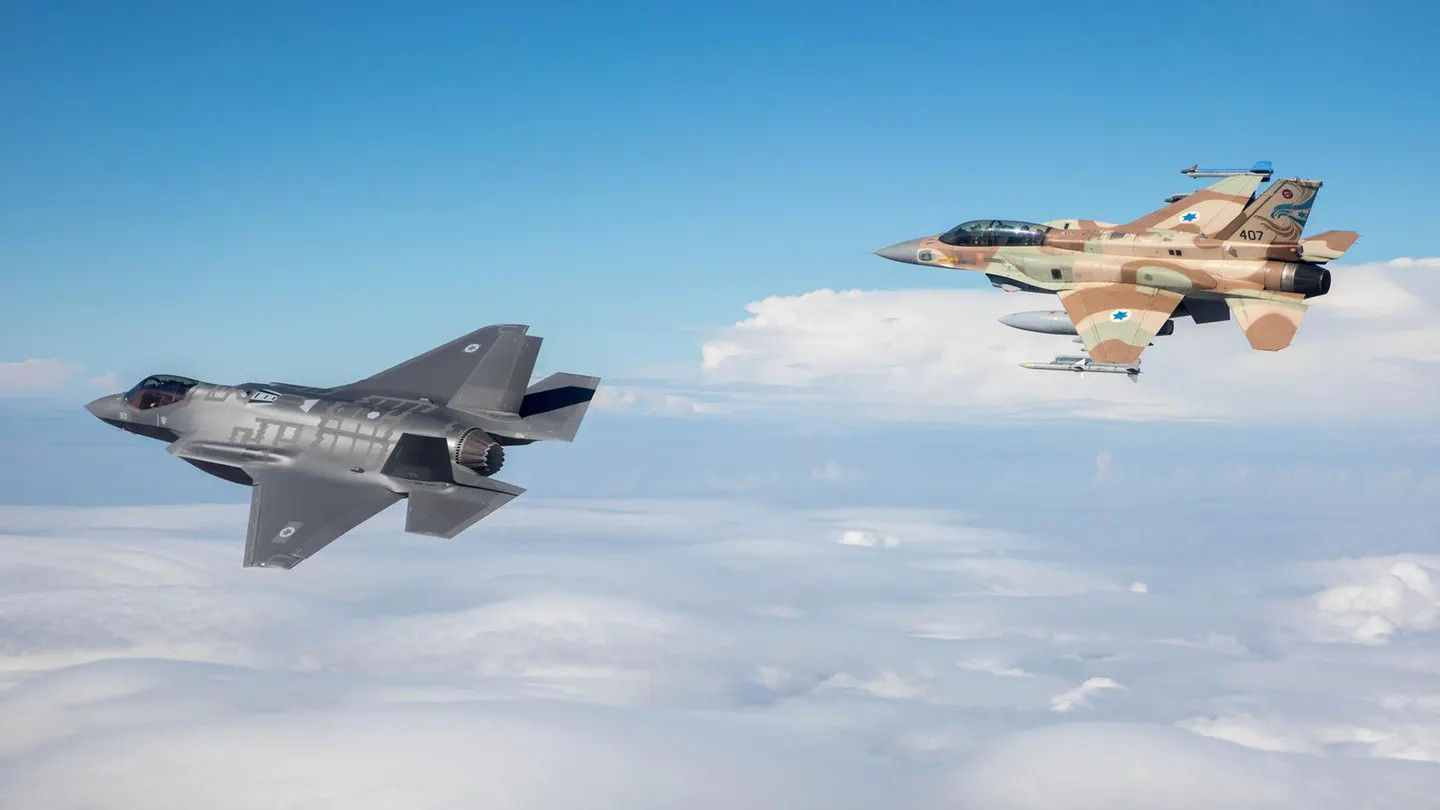F-35 Lightning: (58, 294, 605, 607)
